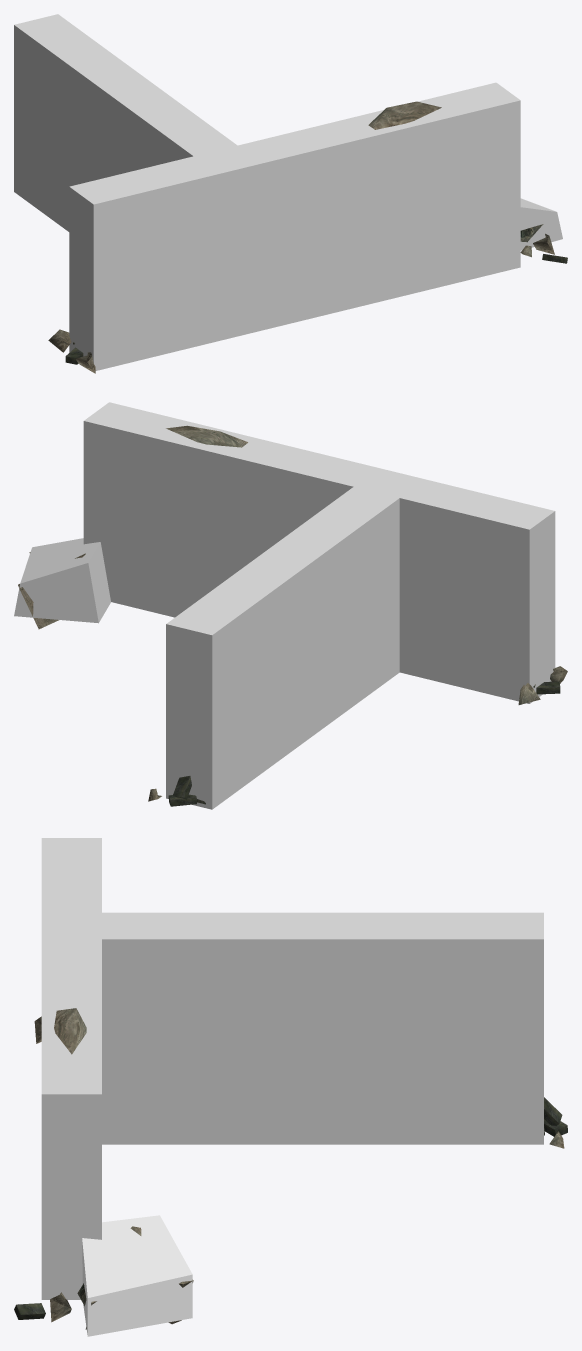
Rendered from poqiang_xn_63.FBX.
The picture shows the model from 3 angles, top to bottom: view 1: azimuth 30°, elevation 25°; view 2: azimuth 150°, elevation 25°; view 3: azimuth 270°, elevation 25°; orthographic projection. The views are drawn at different scales.
Visible parts, largest first — view 1: Box12, poqiang_xn_63; view 2: Box12, poqiang_xn_63; view 3: Box12, poqiang_xn_63.
Part boxes in pixels (<box>): Box12: <box>14,14,562,370</box>; poqiang_xn_63: <box>48,101,567,373</box>; Box12: <box>14,402,555,809</box>; poqiang_xn_63: <box>18,425,567,806</box>; Box12: <box>41,838,543,1336</box>; poqiang_xn_63: <box>14,1008,567,1329</box>.
Size of the model in its own units: 1144 by 413 by 884.
